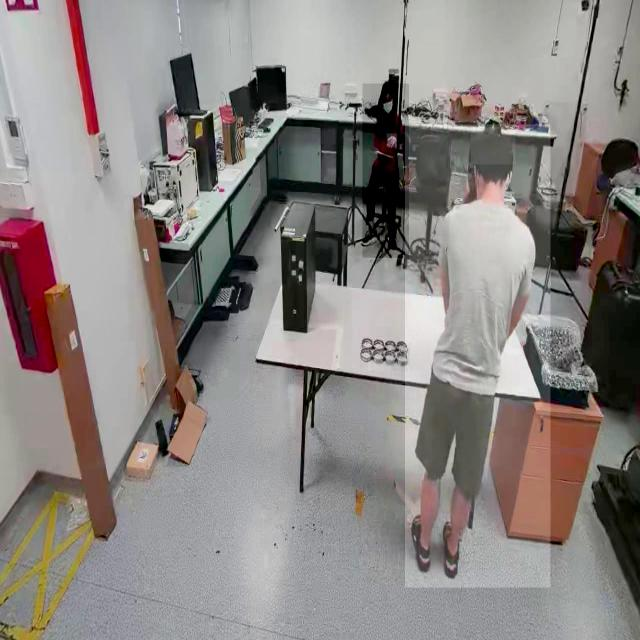face_mask: (379, 90, 395, 122)
hand_noglove: (386, 134, 397, 148)
head_nohelmet: (470, 127, 516, 165), (382, 80, 396, 91)
person: (404, 124, 550, 588), (362, 84, 409, 258)
